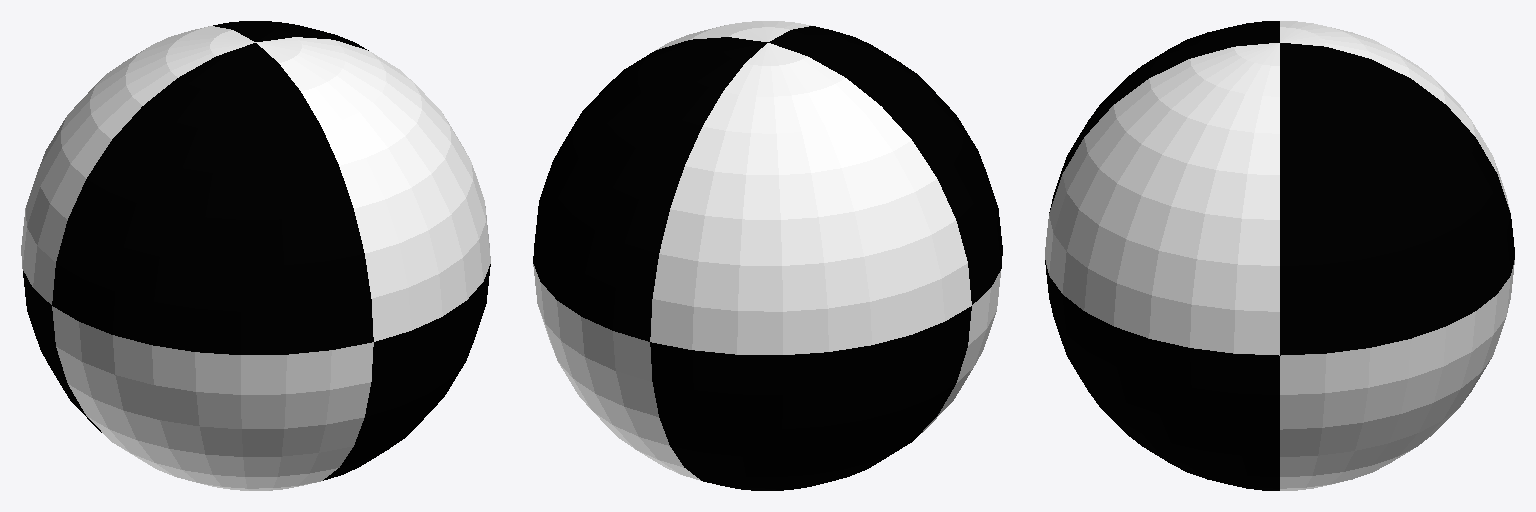
File: ball.obj
3 views of the same model, side by side, from view 1: azimuth 30°, elevation 25°; view 2: azimuth 150°, elevation 25°; view 3: azimuth 270°, elevation 25° (orthographic).
Parts seen in each view (by area): view 1: Sphere; view 2: Sphere; view 3: Sphere.
Part boxes in pixels (left/top/right/bottom): Sphere: left=21, top=21, right=490, bottom=490; Sphere: left=533, top=21, right=1002, bottom=490; Sphere: left=1045, top=21, right=1514, bottom=490.
Size of the model in its own units: 2 by 2 by 2.